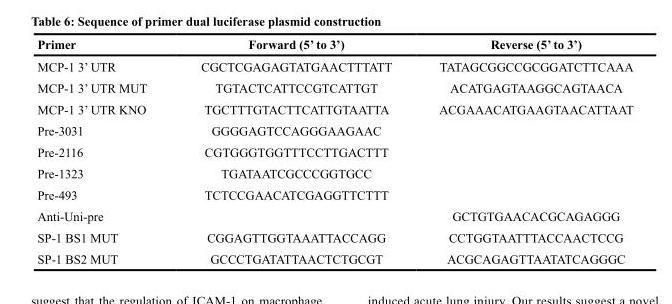table: (36, 36, 632, 265)
table column: (173, 36, 414, 265), (414, 36, 632, 265), (36, 36, 173, 265)
table column header: (36, 36, 632, 54)
table row: (36, 54, 632, 76), (36, 76, 632, 98), (36, 140, 632, 162), (36, 183, 632, 205), (36, 98, 632, 119), (36, 119, 632, 140), (36, 162, 632, 183), (36, 205, 632, 226), (36, 226, 632, 247), (36, 36, 632, 54), (36, 247, 632, 265)
